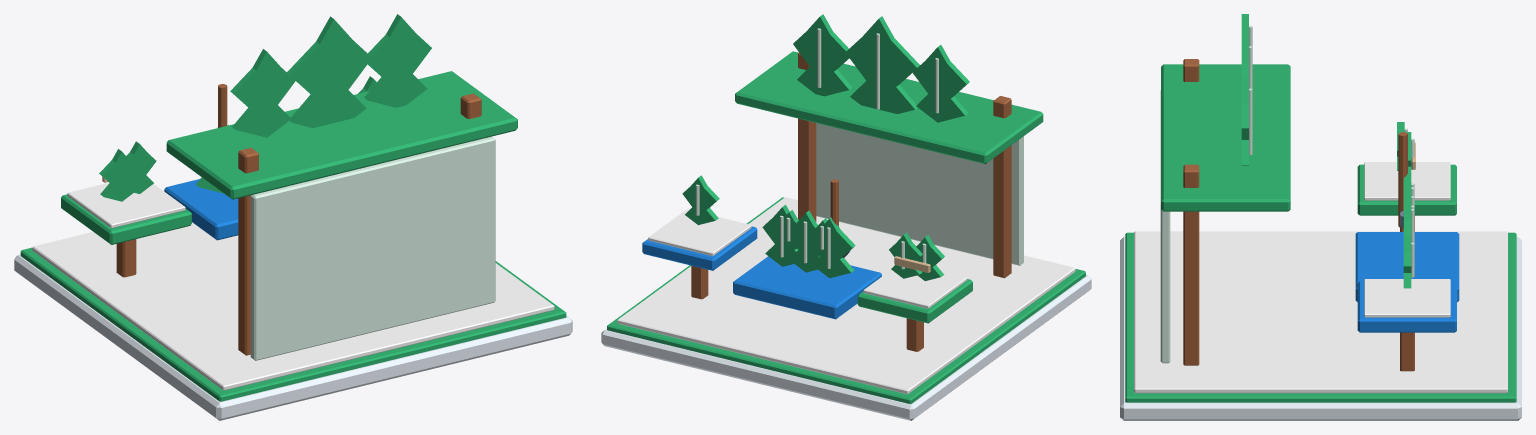
The model's file is Building_KelpFarm_2x2_v002.fbx.
The picture shows the model from 3 angles, left to right: view 1: azimuth 30°, elevation 25°; view 2: azimuth 150°, elevation 25°; view 3: azimuth 270°, elevation 25°; orthographic projection. The views are drawn at different scales.
Parts seen in each view (by area): view 1: FixedShell, OutputItemMesh; view 2: FixedShell, ProcessRawMesh, OutputItemMesh, ProcessFinishedMesh, InputItemMesh; view 3: FixedShell, WorkingPartMesh, ProcessRawMesh, InputItemMesh, OutputItemMesh.
Boxes of the visible parts, x1,y1,x2,y2 form: FixedShell: (14,14,572,420); OutputItemMesh: (99,141,156,201); FixedShell: (601,14,1091,420); ProcessRawMesh: (762,204,855,278); OutputItemMesh: (889,232,944,280); ProcessFinishedMesh: (777,210,837,258); InputItemMesh: (682,175,719,225); FixedShell: (1120,14,1521,420); WorkingPartMesh: (1398,132,1407,228); ProcessRawMesh: (1403,174,1414,242); InputItemMesh: (1403,235,1414,288); OutputItemMesh: (1397,122,1415,173).
Size of the model in its own units: 186 by 157 by 186.
